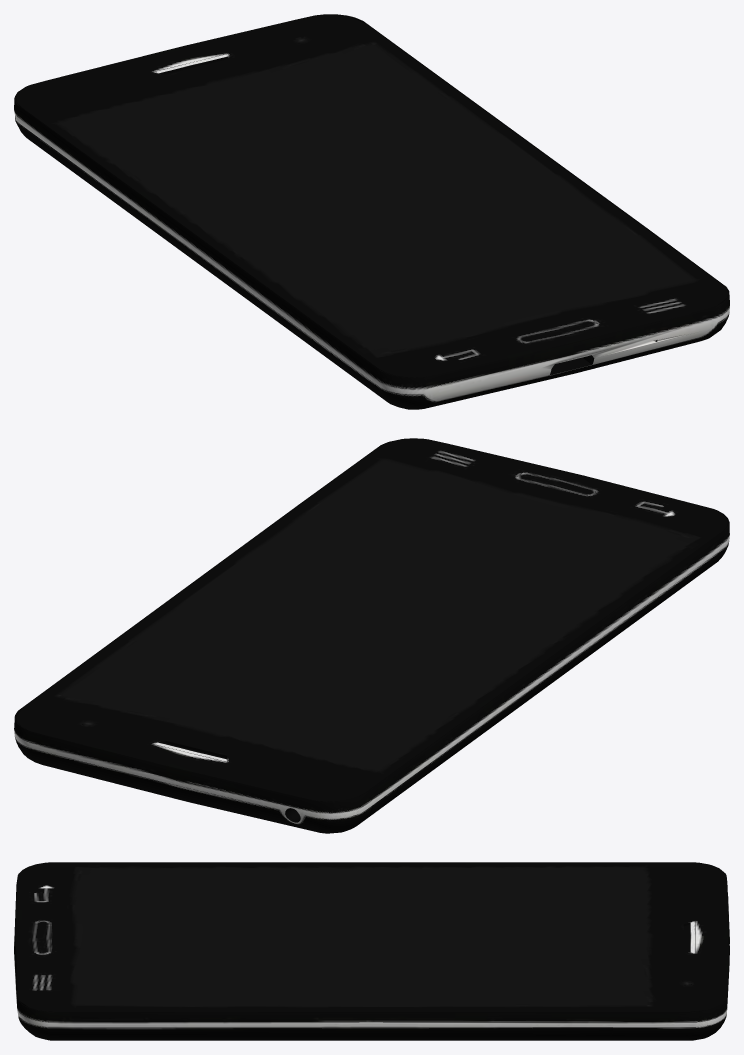
Rendered from maxime_phone.glb.
3 renders of one model, top to bottom at view 1: azimuth 30°, elevation 25°; view 2: azimuth 150°, elevation 25°; view 3: azimuth 270°, elevation 25°, orthographic. The views are drawn at different scales.
Parts seen in each view (by area): view 1: celular_celu_0; view 2: celular_celu_0; view 3: celular_celu_0.
Boxes of the visible parts, x1=… form: celular_celu_0: x1=14, y1=14, x2=729, y2=409; celular_celu_0: x1=14, y1=438, x2=729, y2=833; celular_celu_0: x1=14, y1=862, x2=729, y2=1040.
Size of the model in its own units: 0.0866 by 0.01 by 0.173.
Materials: 1 (1 with a texture image).
